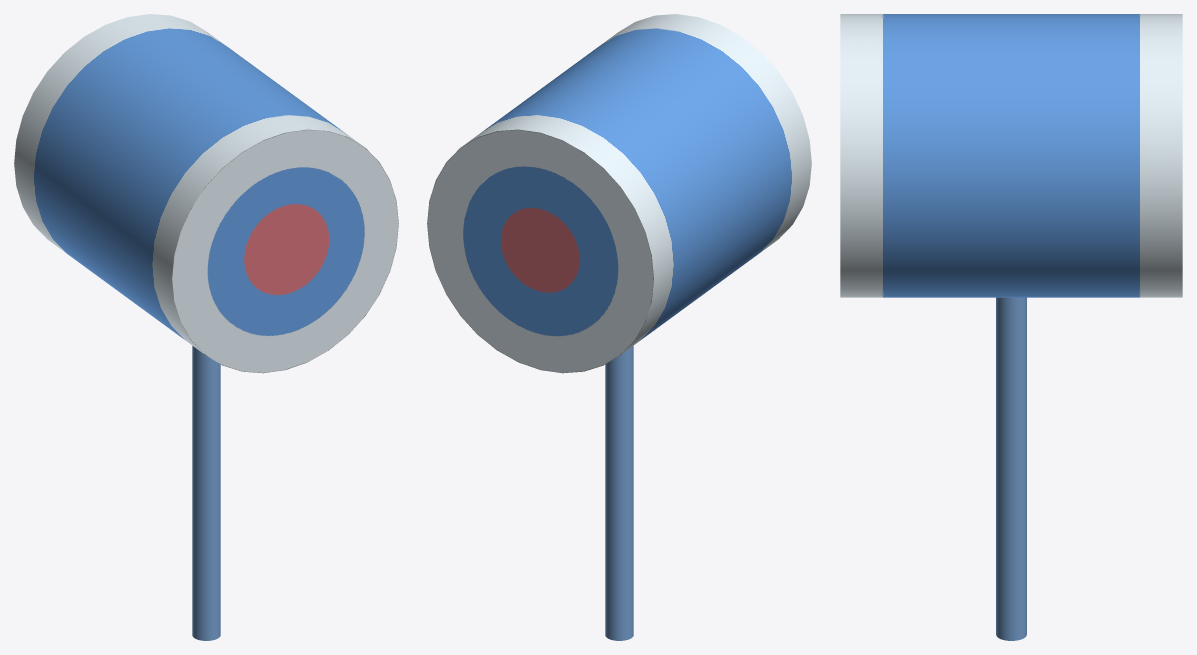
File: Hammer.obj
The picture shows the model from 3 angles, left to right: view 1: azimuth 30°, elevation 25°; view 2: azimuth 150°, elevation 25°; view 3: azimuth 270°, elevation 25°; orthographic projection. The views are drawn at different scales.
Parts seen in each view (by area): view 1: Hammer; view 2: Hammer; view 3: Hammer.
Part boxes in pixels (x1,y1,x2,y2): Hammer: [14, 14, 398, 640]; Hammer: [427, 14, 811, 640]; Hammer: [840, 14, 1182, 640].
Bounding box in the file's own units: 2 × 4.72 × 2.41.
